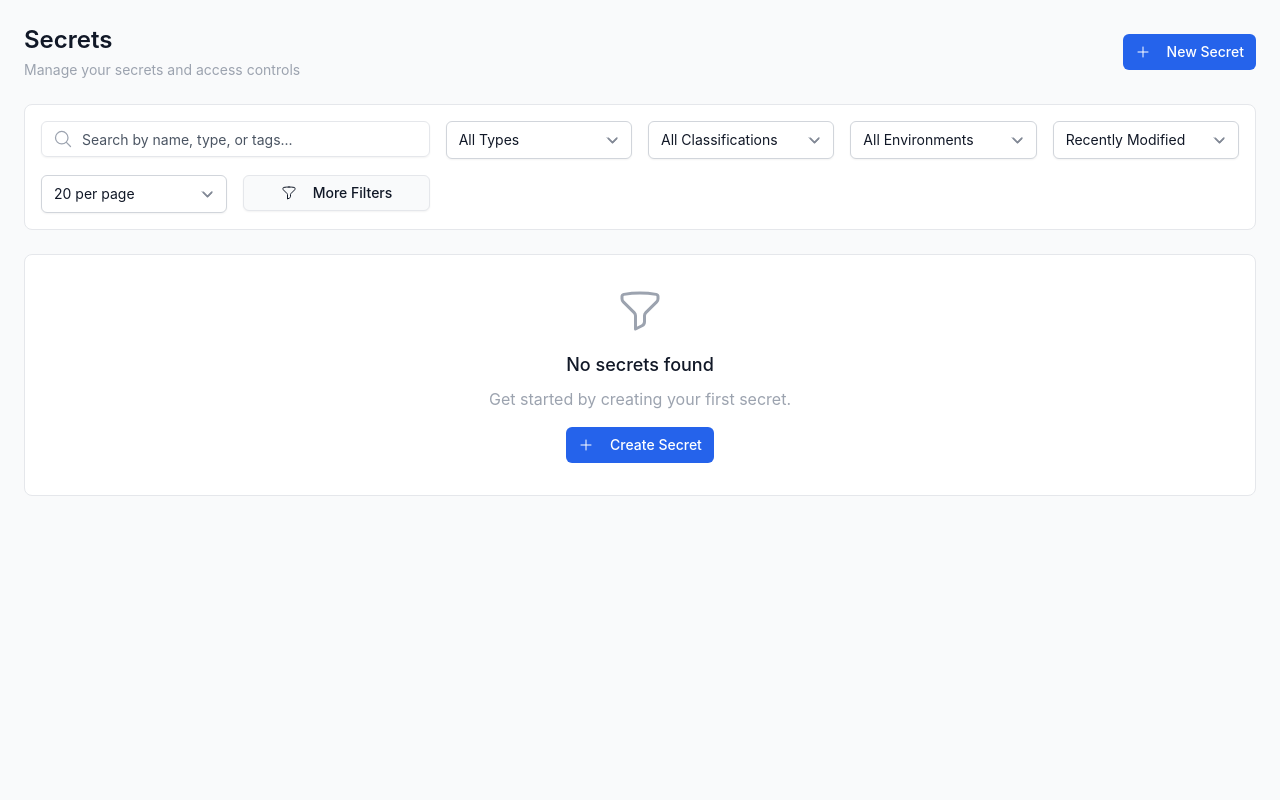
SecretsListPage — create secret: project/environment defaulting › blocks submission with an inline error when no project/environment is available
The width and height of the screenshot is (1280, 800).
Click the button with test id "create-secret-button" at [1189, 52], box left=1123, top=34, right=1256, bottom=70
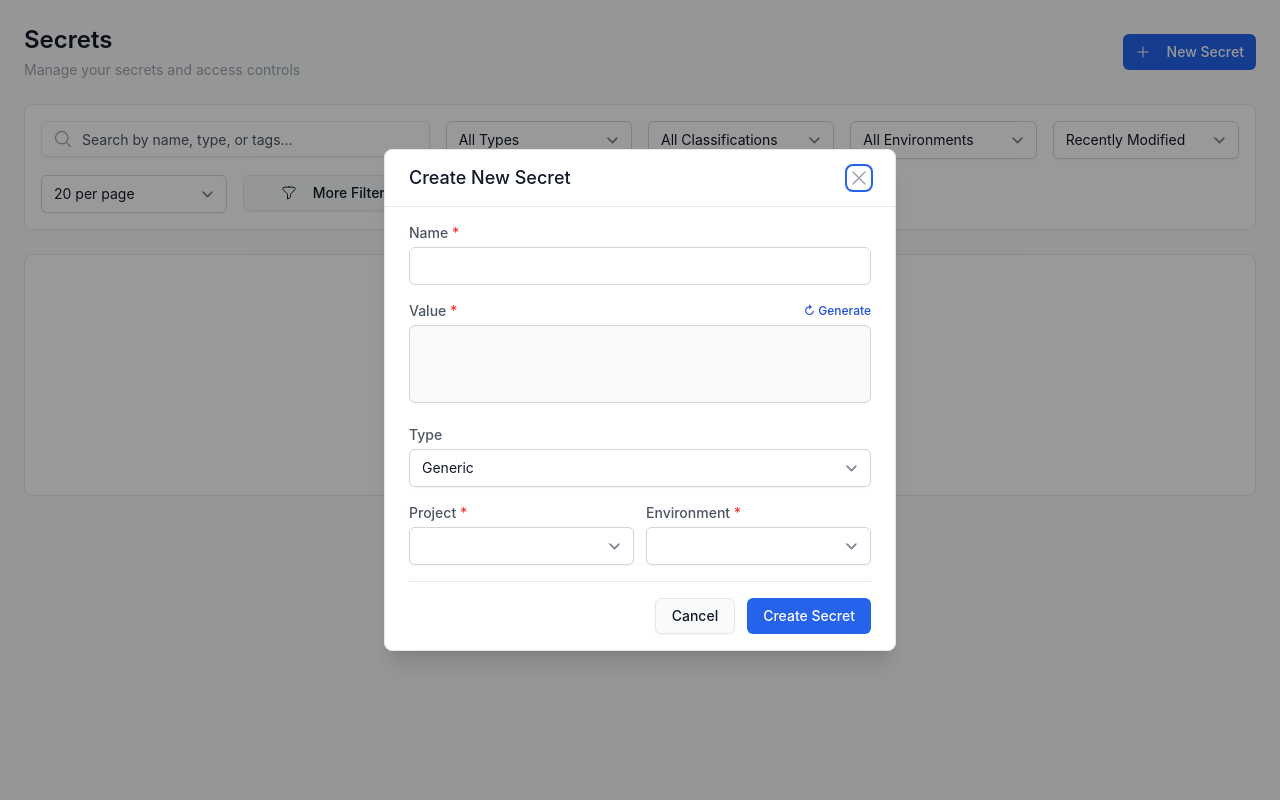
Type "new-secret" into the field labelled "Name *" at [640, 266], box left=409, top=247, right=871, bottom=285
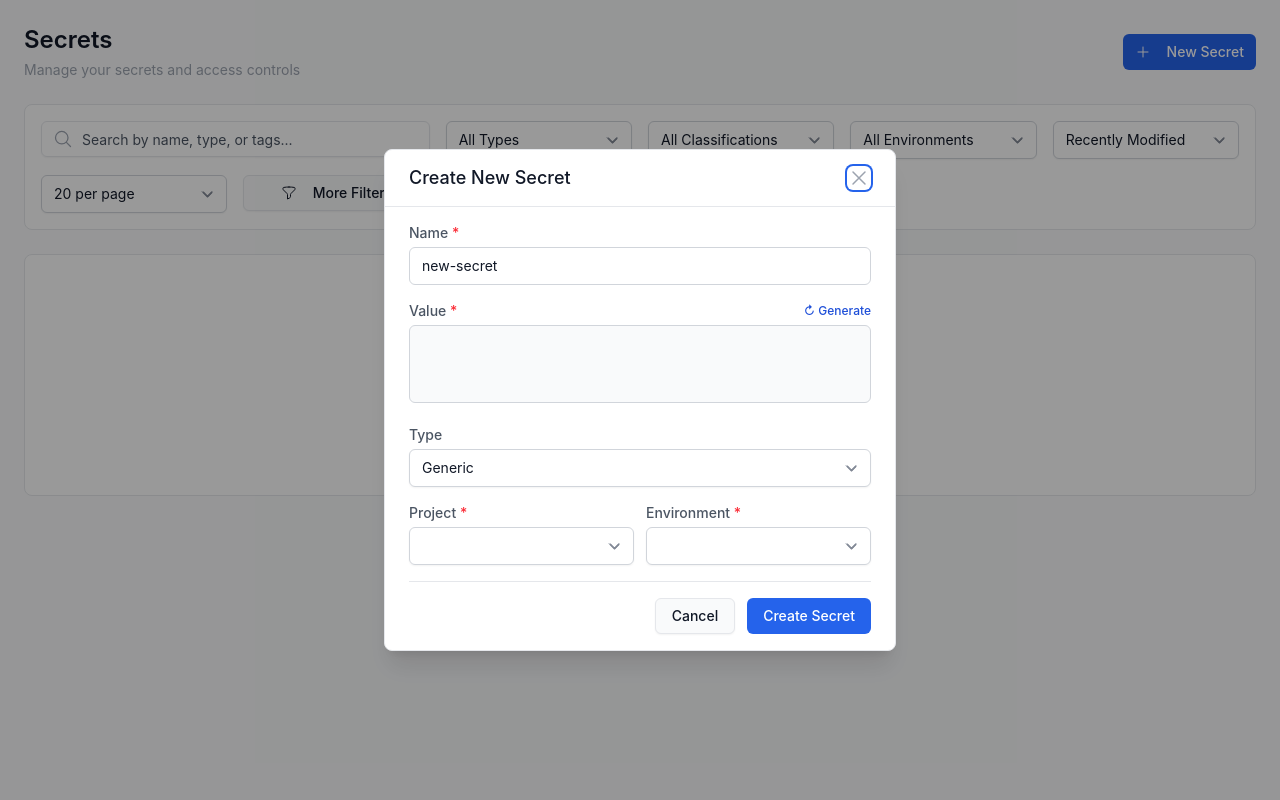
Type "super-secret" into the text box labelled "Value *" at [640, 364], box left=409, top=325, right=871, bottom=403
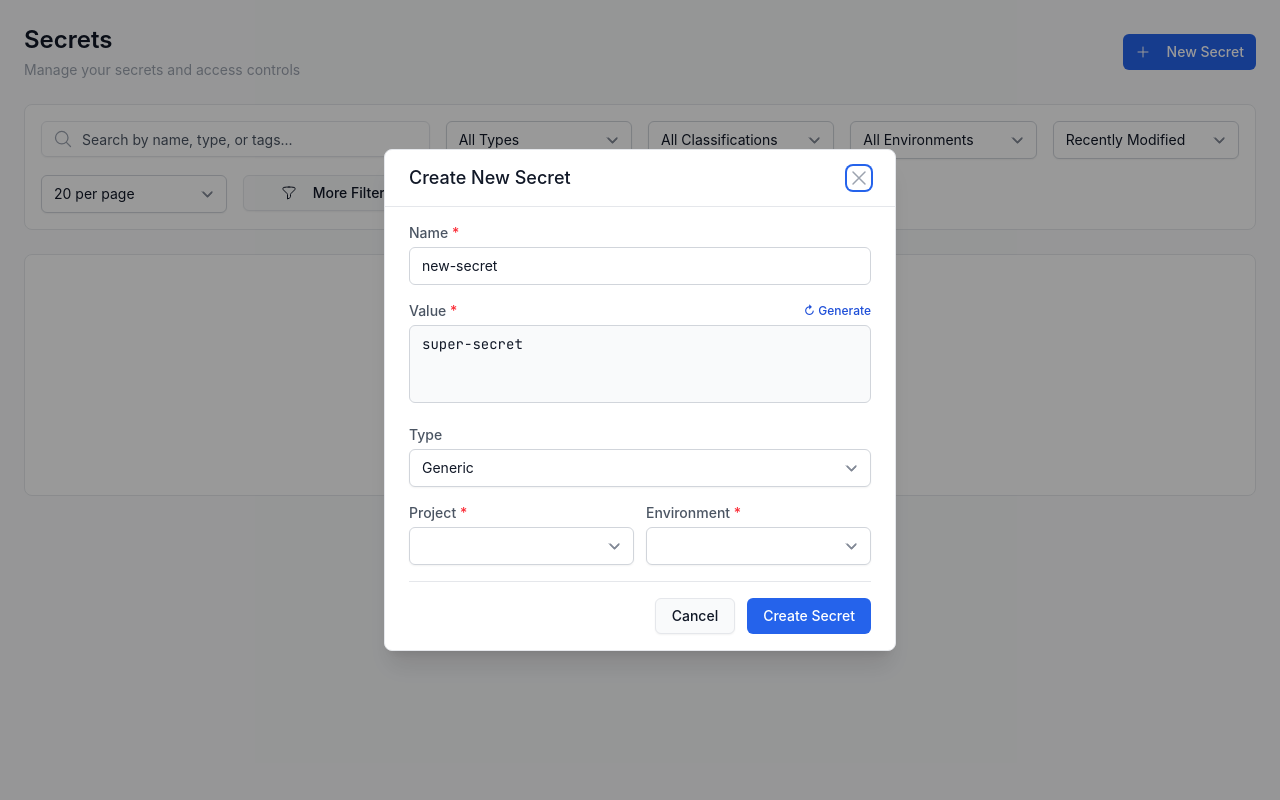
Click the button with test id "create-secret-submit" at [809, 616], box left=747, top=598, right=871, bottom=634
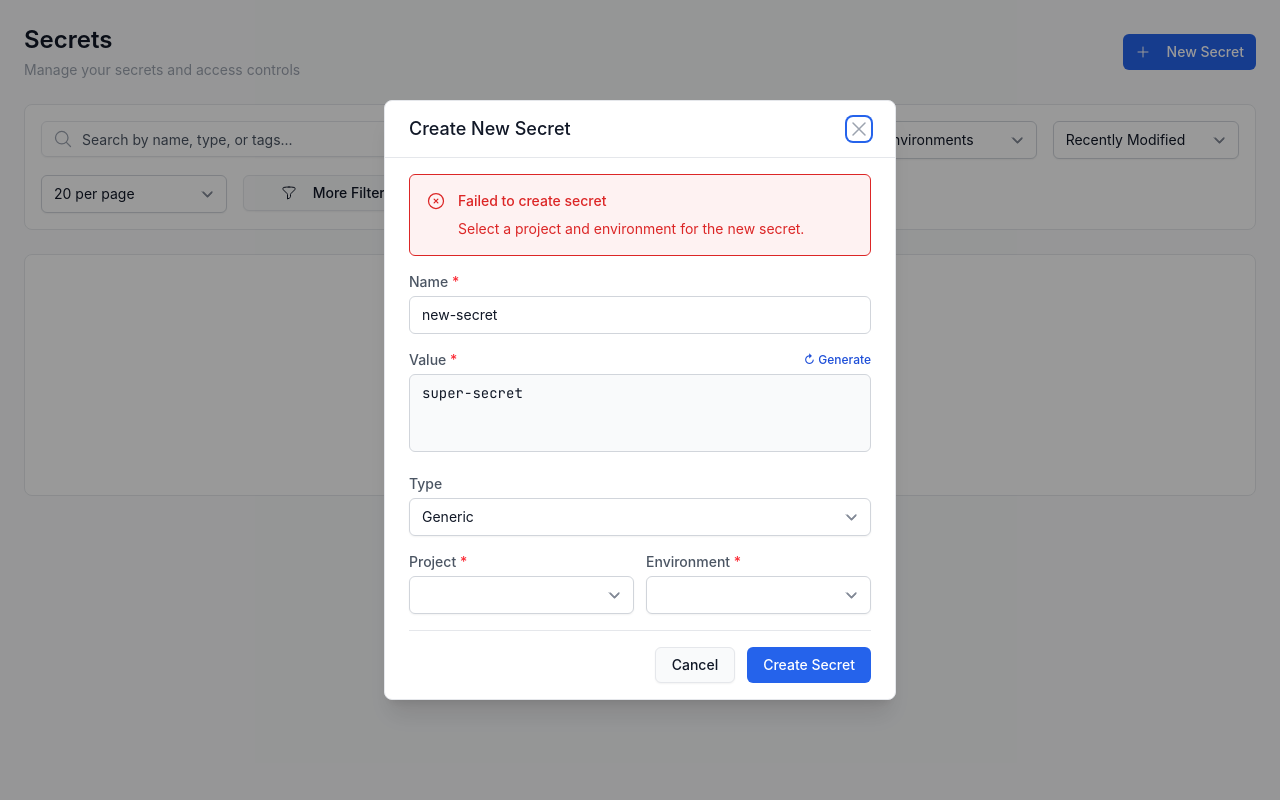
Check: the text "Select a project and environment for the new secret." is shown, box left=458, top=219, right=854, bottom=239
